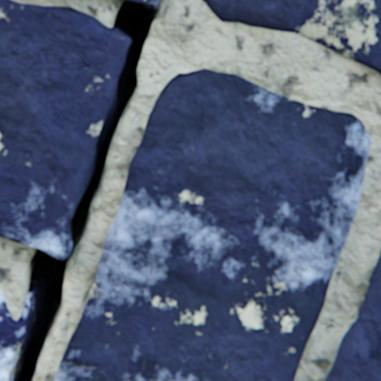brick: (54, 69, 369, 380), (0, 0, 130, 259), (202, 0, 380, 75), (324, 251, 380, 380), (0, 289, 19, 372), (129, 0, 161, 8)
crack: (0, 0, 162, 380)
